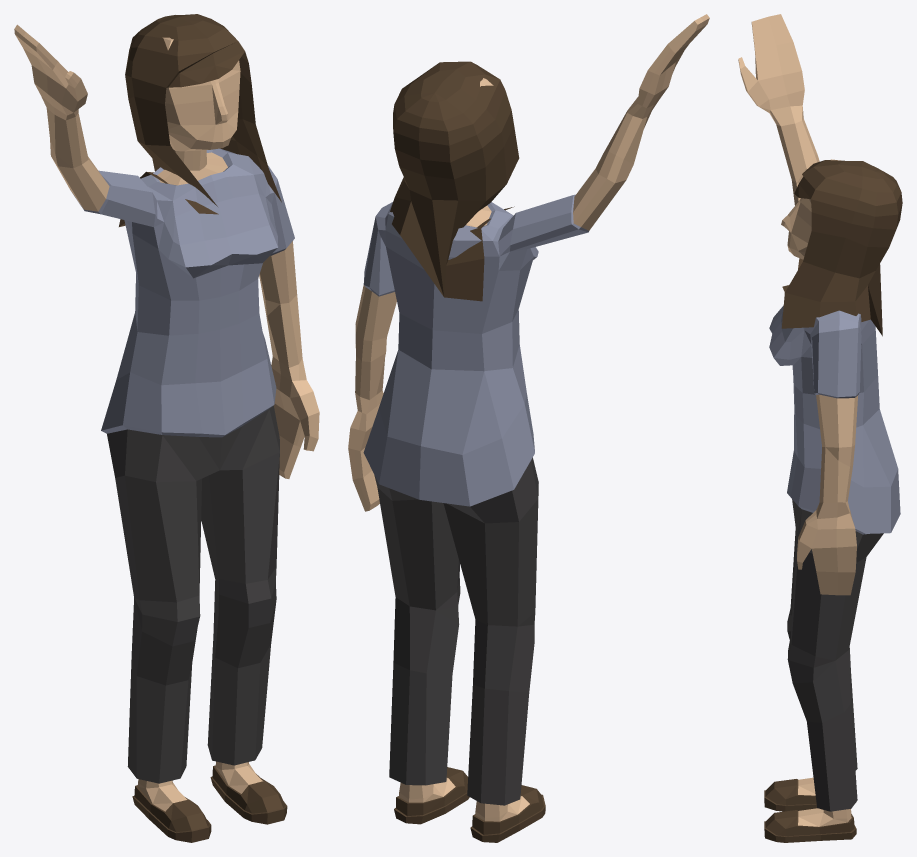
Rendered from Female_Crowd_Waving.glb.
3 renders of one model, left to right at view 1: azimuth 30°, elevation 25°; view 2: azimuth 150°, elevation 25°; view 3: azimuth 270°, elevation 25°, orthographic. The views are drawn at different scales.
Visible parts, largest first — view 1: Female_Crowd_Waving; view 2: Female_Crowd_Waving; view 3: Female_Crowd_Waving.
Boxes of the visible parts, bbox=[...] form: Female_Crowd_Waving: bbox=[14, 14, 319, 842]; Female_Crowd_Waving: bbox=[348, 14, 709, 842]; Female_Crowd_Waving: bbox=[738, 14, 902, 842].
Bounding box in the file's own units: 0.7082 × 1.82 × 0.3778.
